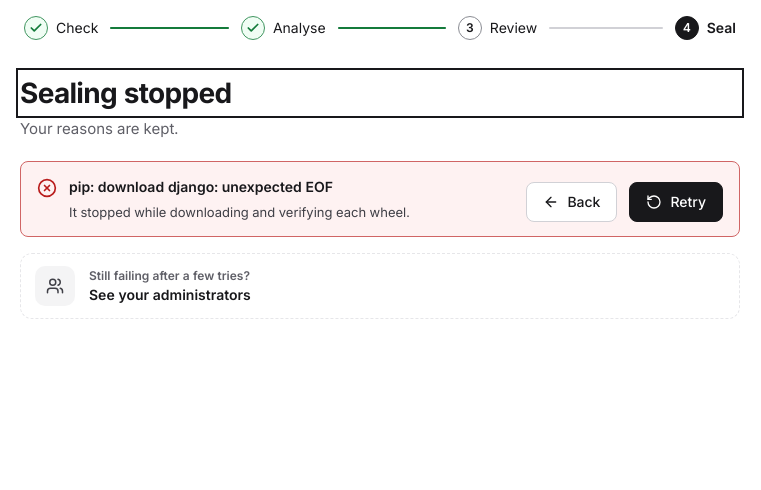
a pip crossing › shows a refusing rule with its packages
Click the button "Retry" at (676, 202), box x1=629 y1=182 x2=723 y2=222
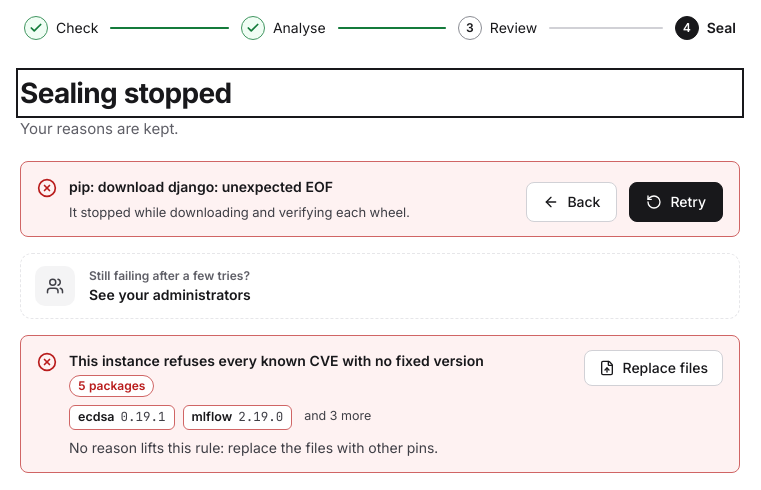
Now the text "This instance refuses every known CVE with no fixed version" shows "5 packages", box x1=78 y1=378 x2=145 y2=393
Now the text "ecdsa" is shown, box x1=78 y1=408 x2=114 y2=427
Now the text "0.19.1" is shown, box x1=120 y1=408 x2=166 y2=427
